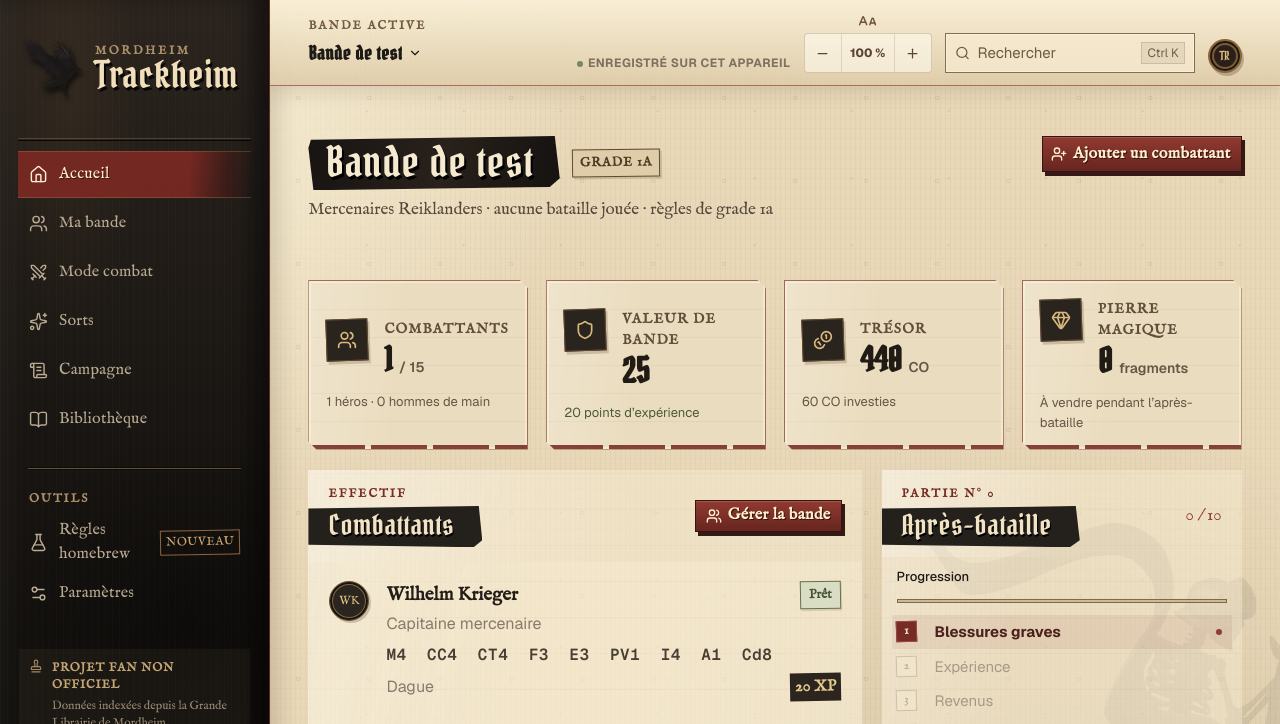
Test case: navigation principale › nomme précisément les contrôles d’expérience
The width and height of the screenshot is (1280, 724).
Click the link "Ma bande" at (78, 223), box [29,213,126,233]
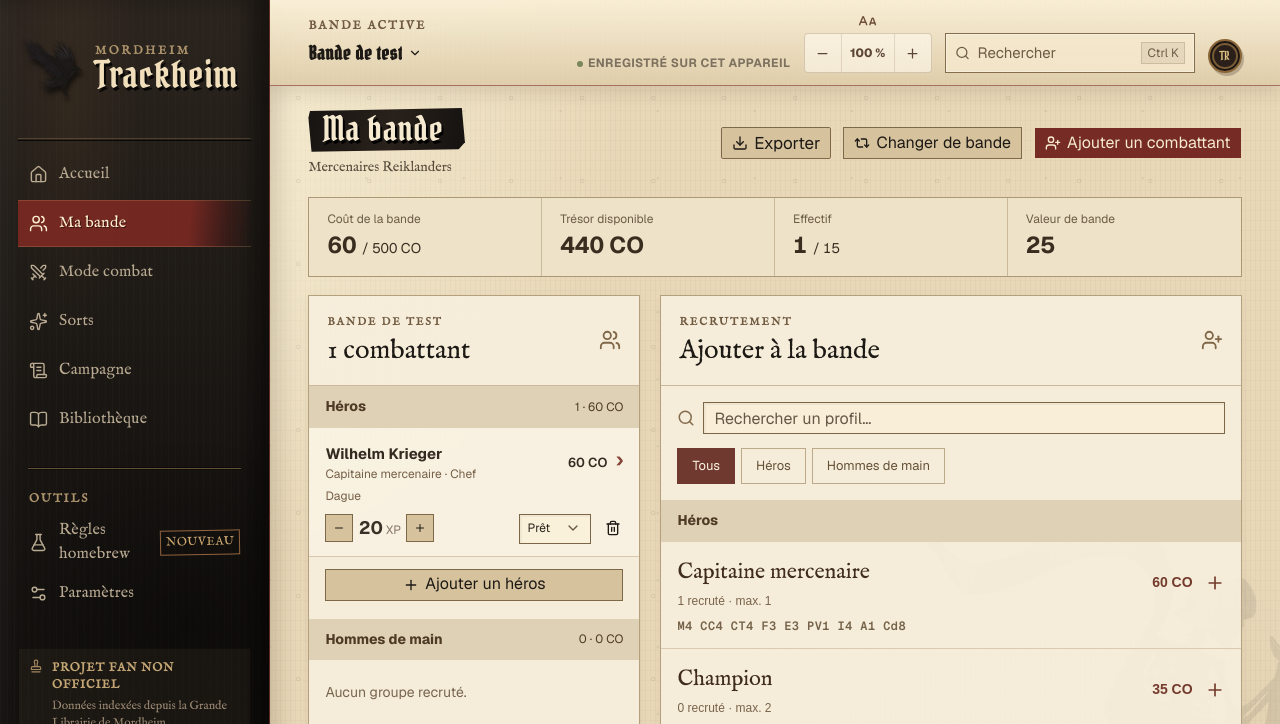
Check: the button named "Retirer 1 point d’expérience à Wilhelm Krieger" is shown, box [325,514,353,542]
Check: the button named "Ajouter 1 point d’expérience à Wilhelm Krieger" is shown, box [406,514,434,542]
